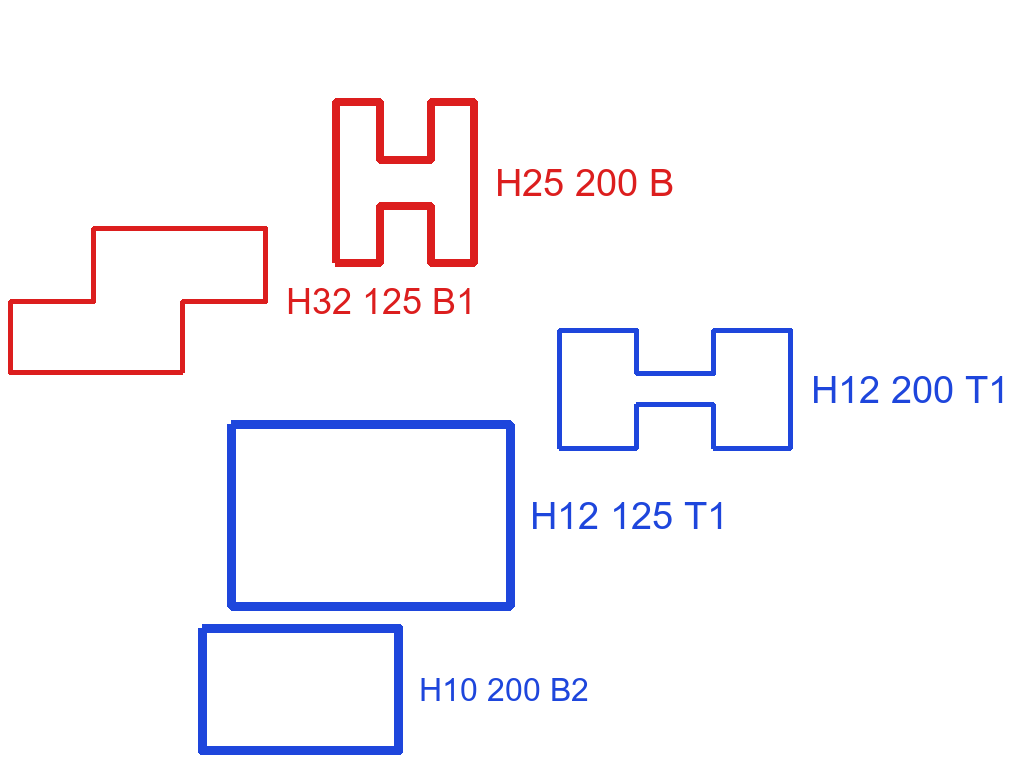shape: (225, 418, 517, 613), (6, 224, 270, 377), (555, 326, 795, 453), (196, 622, 405, 757), (330, 97, 481, 269)
text: (528, 500, 730, 531), (809, 374, 1011, 405), (284, 286, 478, 316), (493, 167, 676, 198), (417, 676, 591, 703)
